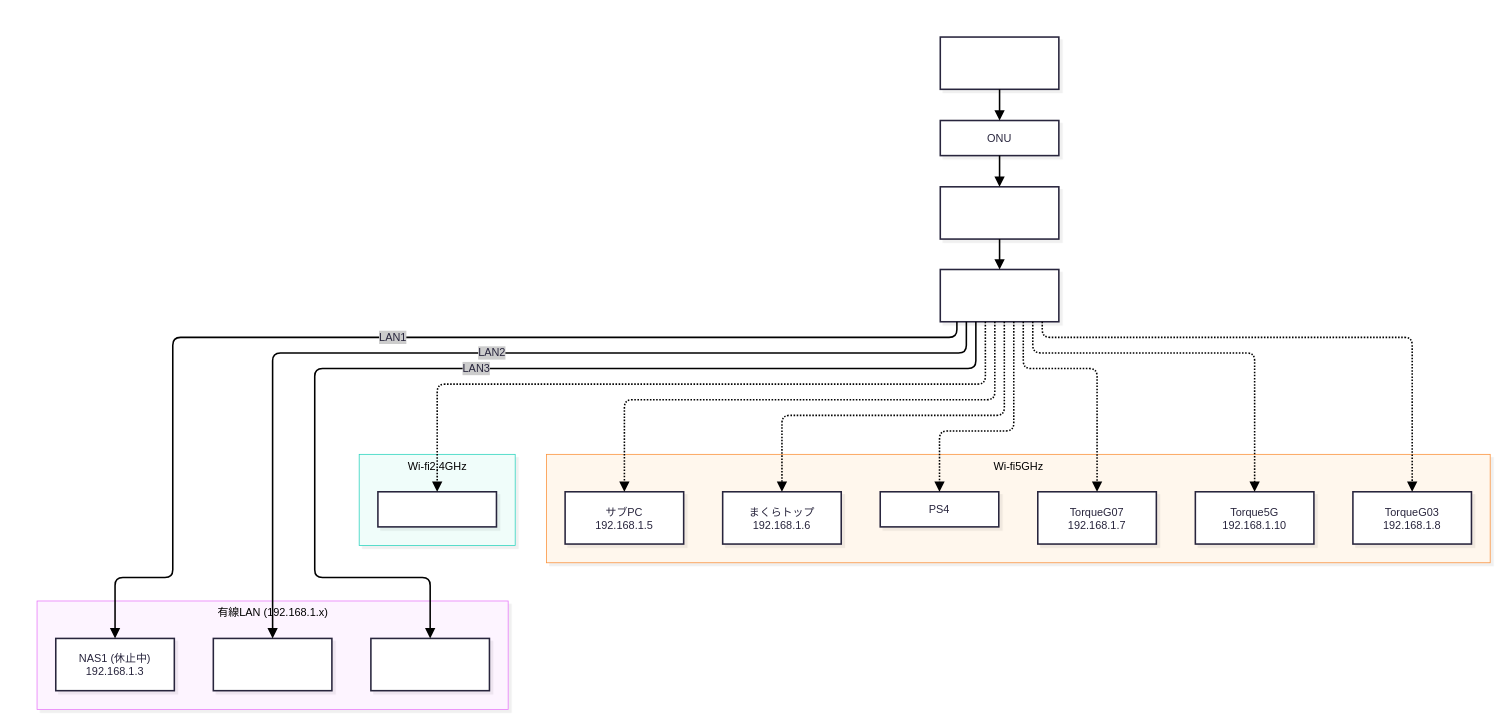
Image size: 1507x726. Some labels were removed from this diagram. Each missing label, with the centre of its shape:
"HGW 192.168.0.1" belongs at pixel 1000 214.
"NAS2 192.168.1.2" belongs at pixel 273 665.
"XR500 192.168.1.1" belongs at pixel 1000 296.
"インターネット auひかり" belongs at pixel 1000 64.
"プリンタ(休止中)" belongs at pixel 438 510.
"メインPC 192.168.1.4" belongs at pixel 431 665.
